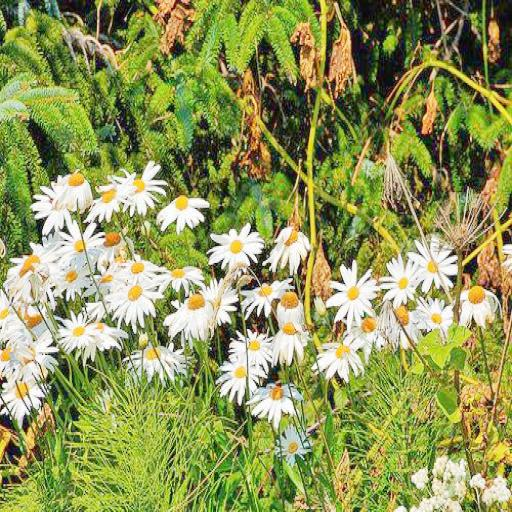daisy: (335, 262, 378, 322), (105, 277, 163, 321), (170, 289, 216, 344), (121, 341, 189, 377), (161, 184, 209, 234), (414, 242, 460, 290), (322, 335, 364, 380), (254, 378, 301, 418), (274, 223, 312, 272), (234, 324, 278, 366), (211, 226, 258, 264), (52, 257, 98, 295), (462, 278, 498, 326), (80, 316, 125, 354), (22, 320, 58, 367), (121, 166, 164, 205), (384, 255, 421, 300), (387, 300, 422, 347), (221, 358, 262, 398), (53, 166, 92, 208), (60, 228, 104, 264), (276, 277, 310, 321), (4, 375, 39, 417), (10, 246, 56, 277), (115, 254, 163, 281), (274, 320, 308, 358), (248, 281, 288, 312), (424, 290, 452, 334), (64, 312, 92, 355), (95, 178, 123, 216), (279, 426, 307, 461), (360, 312, 382, 352), (164, 263, 202, 286)
